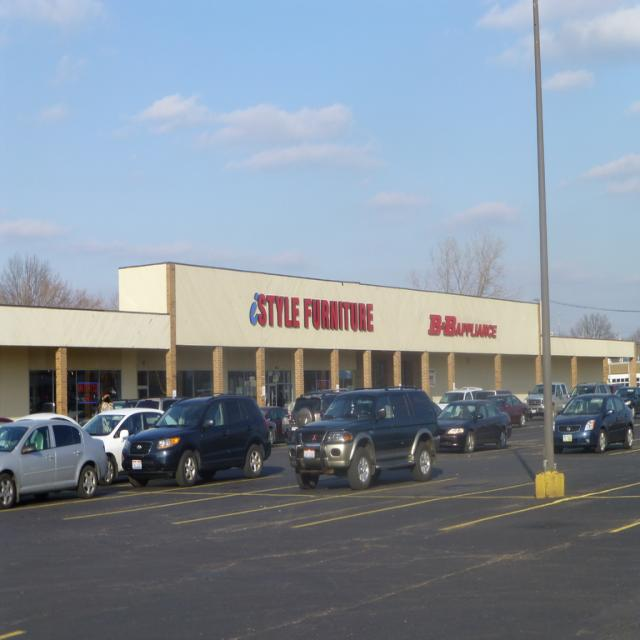car: (284, 387, 443, 493)
